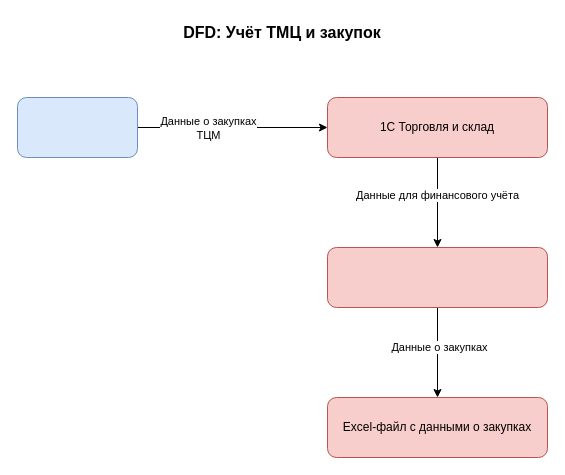
Some shapes in this 565 by 475 pixel diagram are drawn without their labels. The shapes that lost their labels are listed below. From the top down, each one's centre as x and y in pixels, then its label:
the point at 77,127: Сотрудник склада
the point at 437,277: 1C Бухгалтерия предприятия
